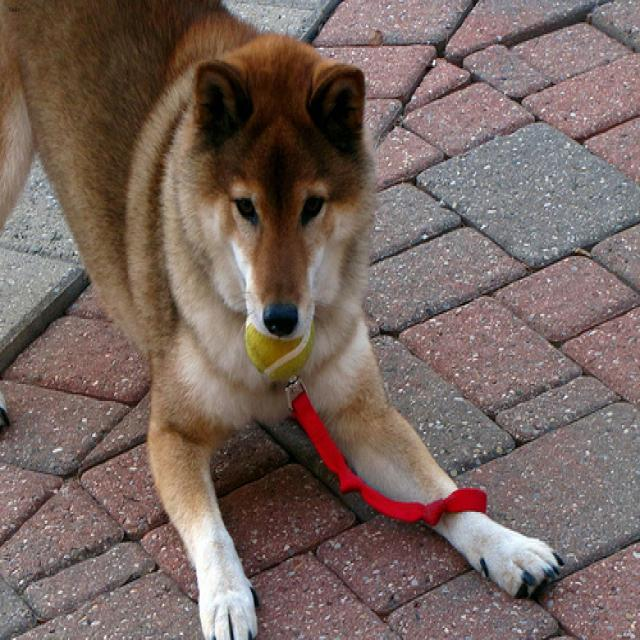dog-shiba_inu: (1, 2, 572, 637)
